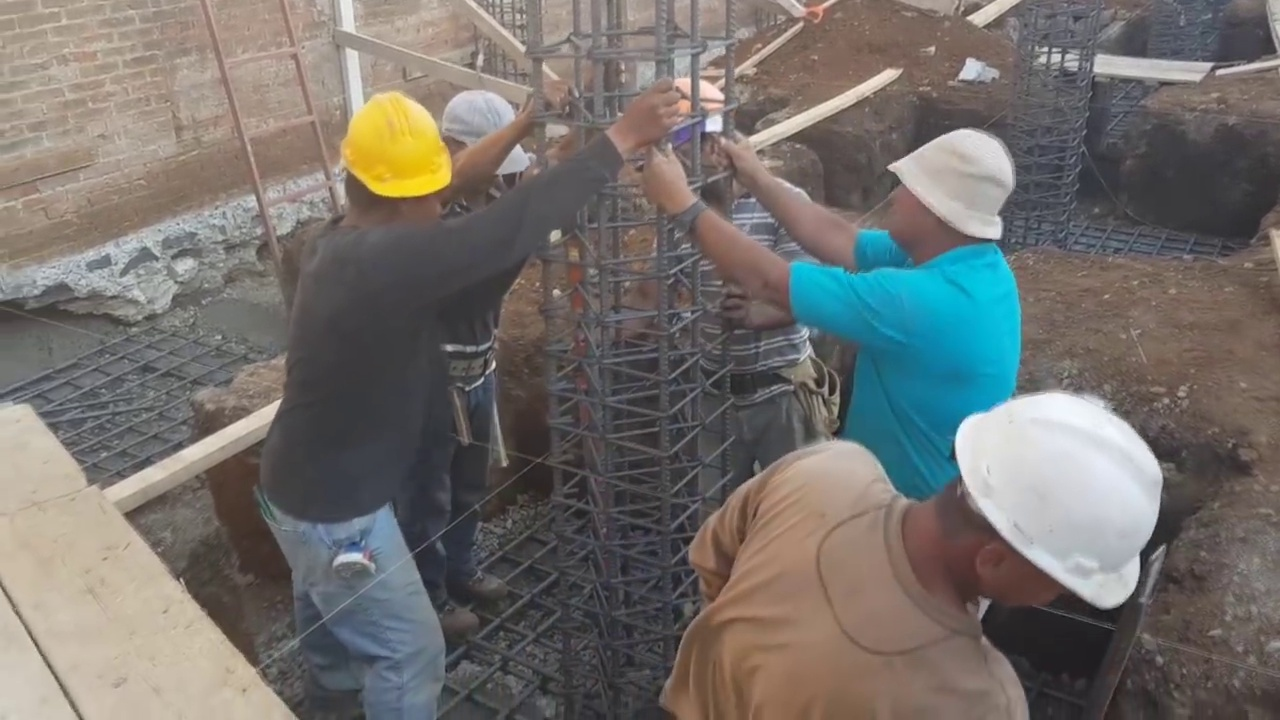helmet: (952, 392, 1170, 605), (337, 86, 453, 204), (650, 73, 732, 134)
helmet-off: (883, 120, 1019, 265), (441, 89, 523, 204)
helmet-on: (889, 390, 1174, 627), (324, 76, 451, 240), (649, 71, 741, 210)
person: (240, 78, 686, 717), (660, 388, 1178, 720), (638, 123, 1027, 494), (645, 53, 840, 489), (402, 82, 529, 639)
